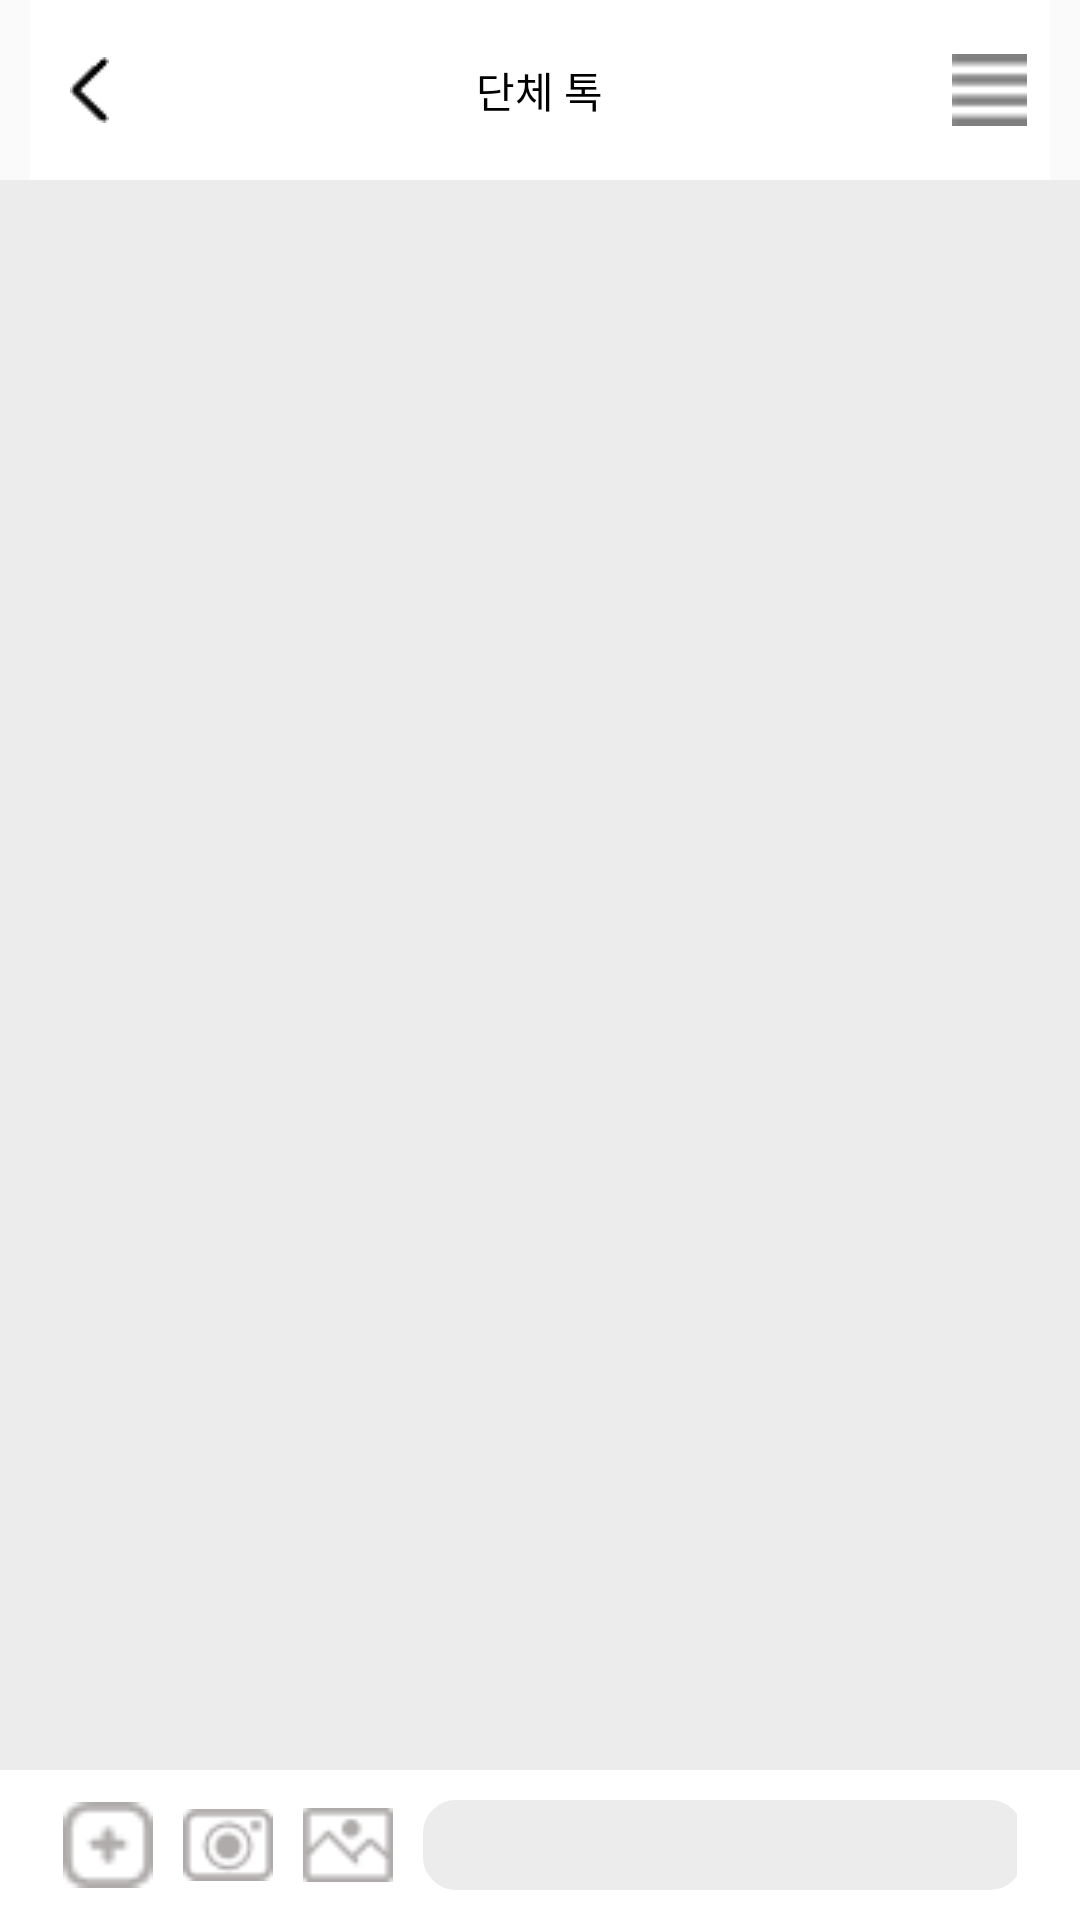

Icons on this 1080x1920 Android screen, each with the point to tap as (x,y):
back: (89,90)
chatcamera: (228,1845)
chatpicture: (348,1845)
chatplus: (108,1845)
